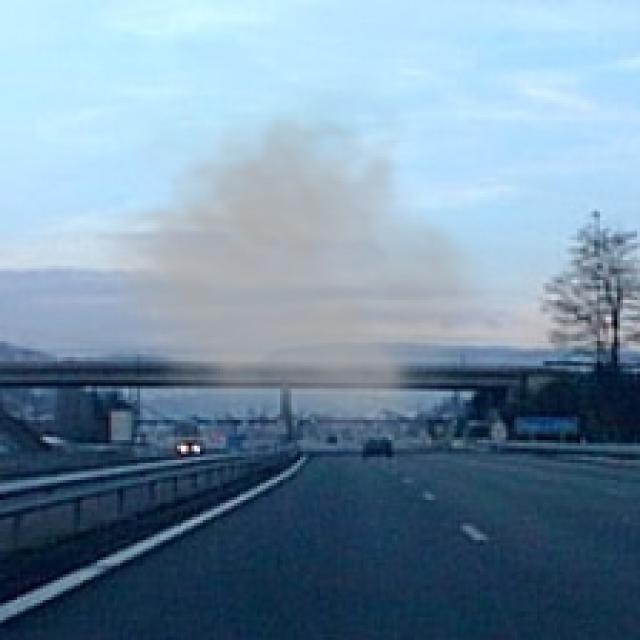smoke: (86, 74, 508, 437)
